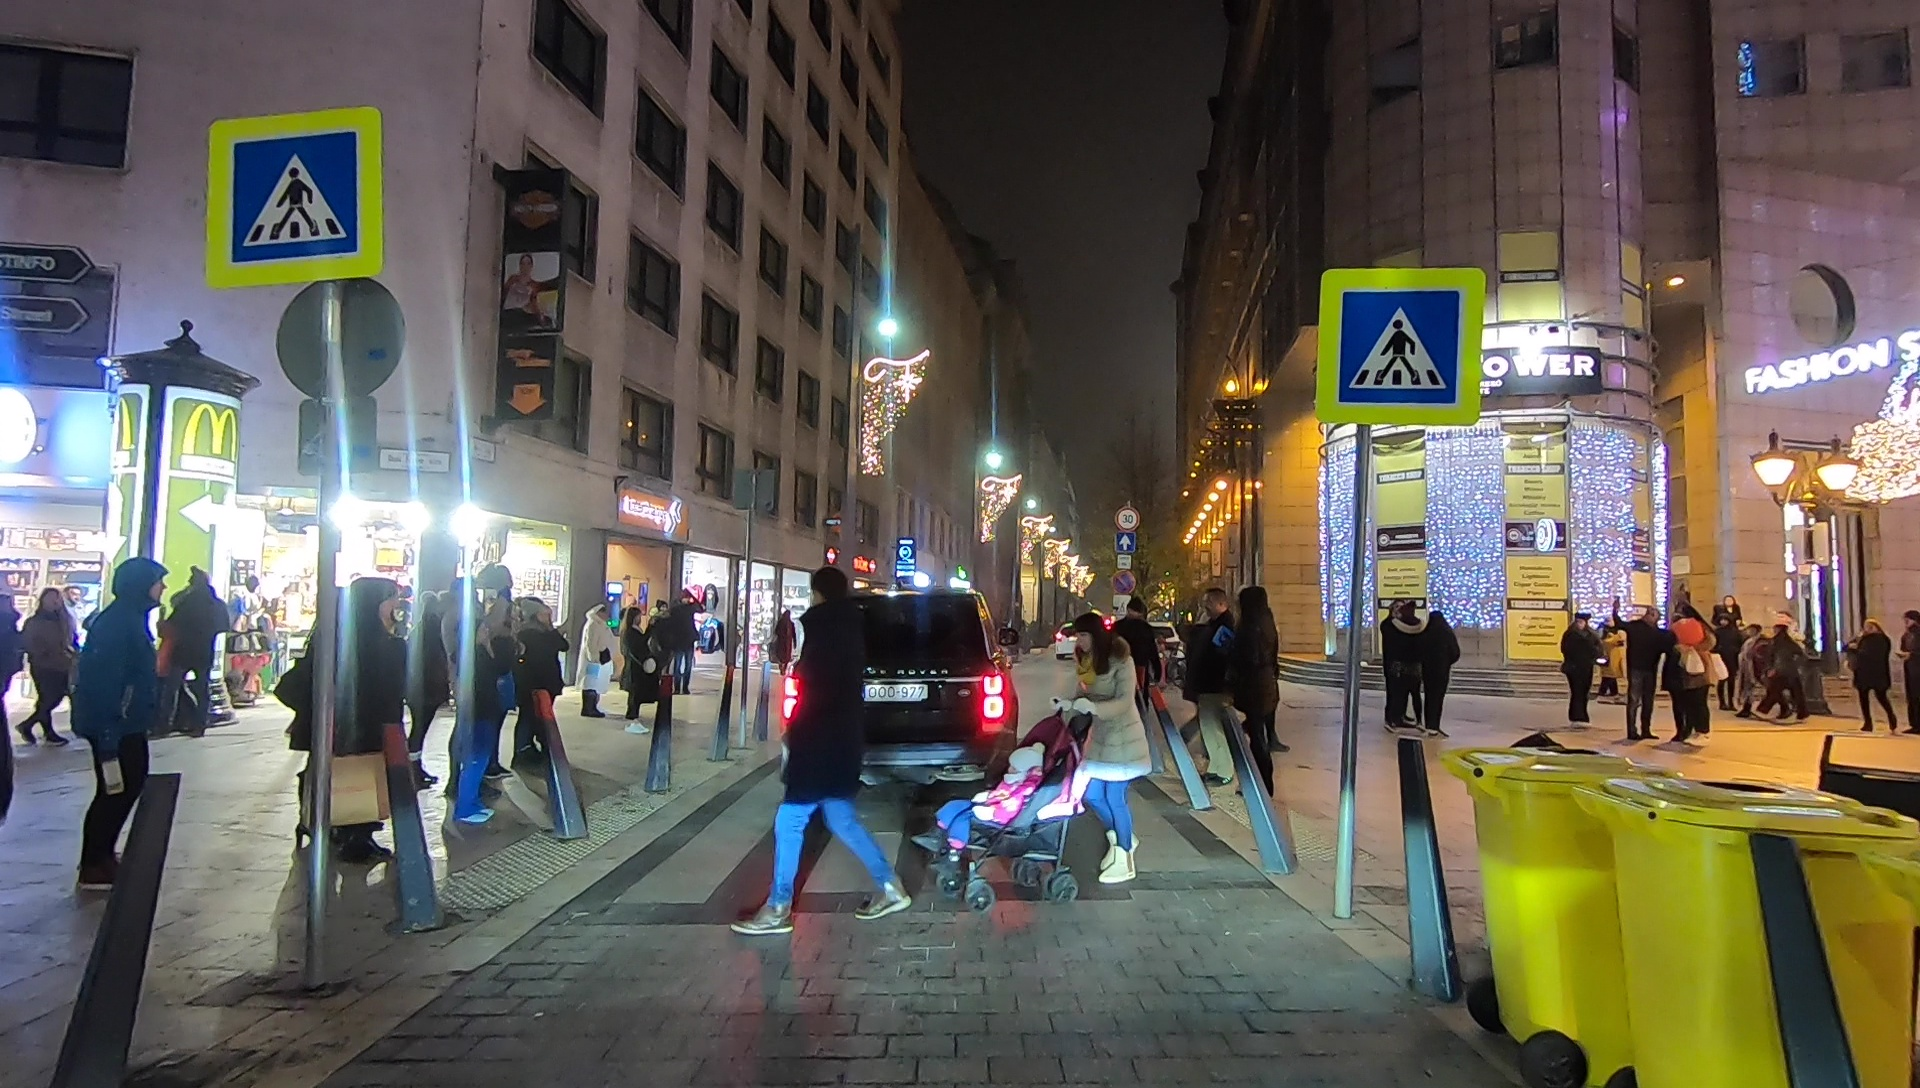person: (738, 567, 912, 920), (69, 556, 160, 876), (1069, 619, 1140, 881), (337, 576, 398, 868), (1175, 585, 1236, 789), (162, 566, 223, 734), (453, 622, 503, 820), (1236, 581, 1279, 800), (404, 588, 449, 789), (18, 590, 73, 751), (518, 596, 565, 768), (1611, 597, 1663, 740), (1118, 600, 1160, 743), (1850, 618, 1897, 732), (1423, 613, 1460, 738), (1559, 610, 1598, 727), (1683, 617, 1717, 750), (621, 603, 655, 734), (1387, 606, 1422, 737), (1769, 620, 1810, 725), (581, 600, 616, 720), (1735, 620, 1768, 709), (1667, 610, 1689, 743), (1714, 595, 1744, 689), (675, 589, 699, 698), (647, 597, 672, 698), (1900, 612, 1920, 732), (772, 609, 794, 675)
